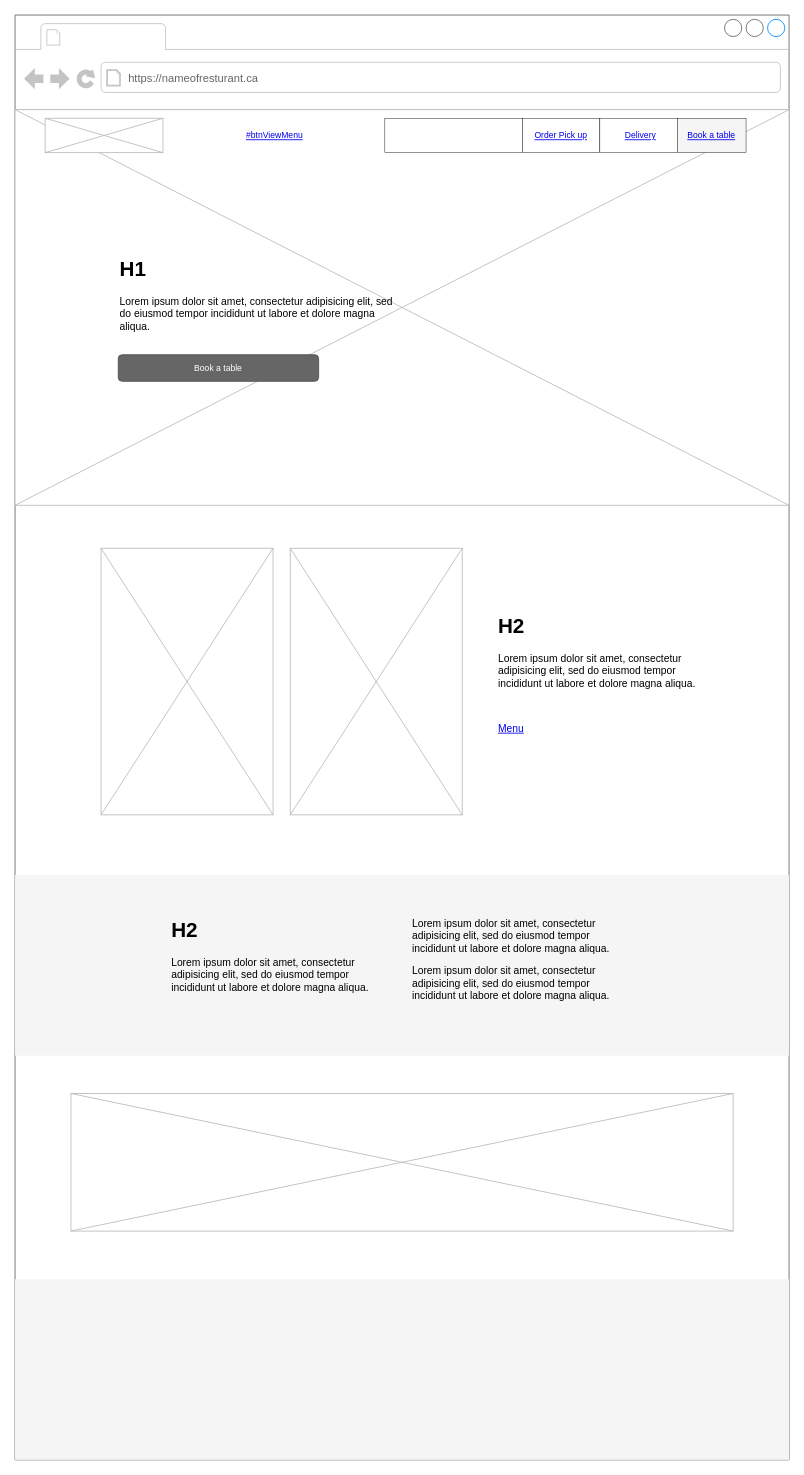
Some shapes in this 804 by 1475 pixel diagram are drawn without their labels. The shapes that lost their labels are listed below. From the top down, each one's centre as x and y in pixels, then its label:
pixel 113 36: Home
pixel 453 135: Location address
